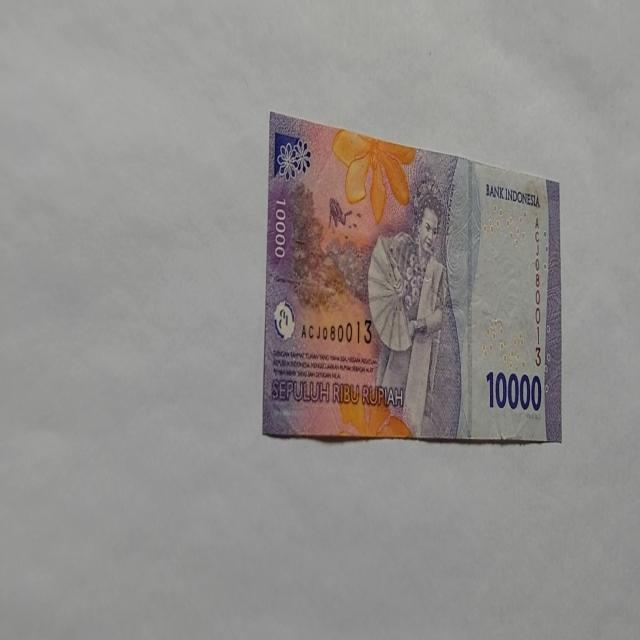sepuluh ribu rupiah: (262, 110, 562, 443)
